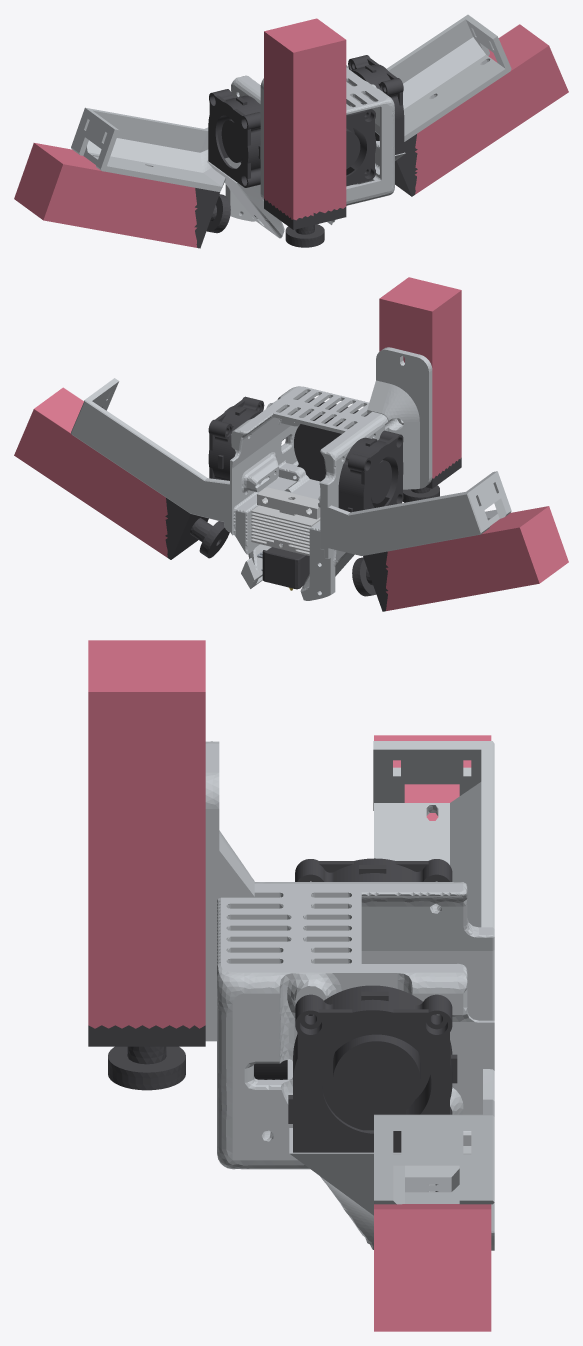
Rendered from toolhead_final.glb.
The picture shows the model from 3 angles, top to bottom: view 1: azimuth 30°, elevation 25°; view 2: azimuth 150°, elevation 25°; view 3: azimuth 270°, elevation 25°; orthographic projection. The views are drawn at different scales.
Visible parts, largest first — view 1: mounting_bracket, laser_top_module_red, laser_right_module_red, laser_left_module_red, cooling_fan_right, cooling_fan_center, cooling_fan_left, laser_top_ring_black, laser_right_ring_black, laser_left_ring_black; view 2: mounting_bracket, laser_right_module_red, laser_left_module_red, laser_top_module_red, cooling_fan_right, hotend_heatsink, laser_left_ring_black, cooling_fan_left, cooling_fan_center, heater_block_black_9, laser_right_ring_black, laser_top_ring_black; view 3: mounting_bracket, laser_top_module_red, cooling_fan_left, laser_left_module_red, laser_top_ring_black, cooling_fan_right, laser_right_module_red.
Boxes of the visible parts, x1,y1,x2,y2 form: mounting_bracket: (71, 14, 511, 238); laser_top_module_red: (264, 18, 346, 220); laser_right_module_red: (14, 143, 197, 247); laser_left_module_red: (415, 24, 568, 194); cooling_fan_right: (208, 89, 260, 187); cooling_fan_center: (346, 102, 375, 186); cooling_fan_left: (348, 55, 404, 154); laser_top_ring_black: (264, 198, 346, 247); laser_right_ring_black: (194, 188, 230, 248); laser_left_ring_black: (395, 134, 417, 196); mounting_bracket: (71, 347, 511, 600); laser_right_module_red: (386, 506, 568, 610); laser_left_module_red: (14, 387, 167, 557); laser_top_module_red: (379, 277, 461, 478); cooling_fan_right: (338, 430, 403, 512); hotend_heatsink: (251, 487, 320, 555); laser_left_ring_black: (165, 498, 229, 559); cooling_fan_left: (208, 396, 264, 480); cooling_fan_center: (294, 398, 368, 481); heater_block_black_9: (262, 550, 309, 589); laser_right_ring_black: (352, 551, 388, 611); laser_top_ring_black: (402, 457, 461, 502); mounting_bracket: (205, 741, 494, 1250); laser_top_module_red: (88, 640, 205, 1028); cooling_fan_left: (288, 985, 457, 1152); laser_left_module_red: (374, 1204, 491, 1331); laser_top_ring_black: (88, 1025, 205, 1090); cooling_fan_right: (295, 858, 452, 881); laser_right_module_red: (374, 735, 491, 820).
Bounding box in the file's own units: 310 × 146 × 104.
